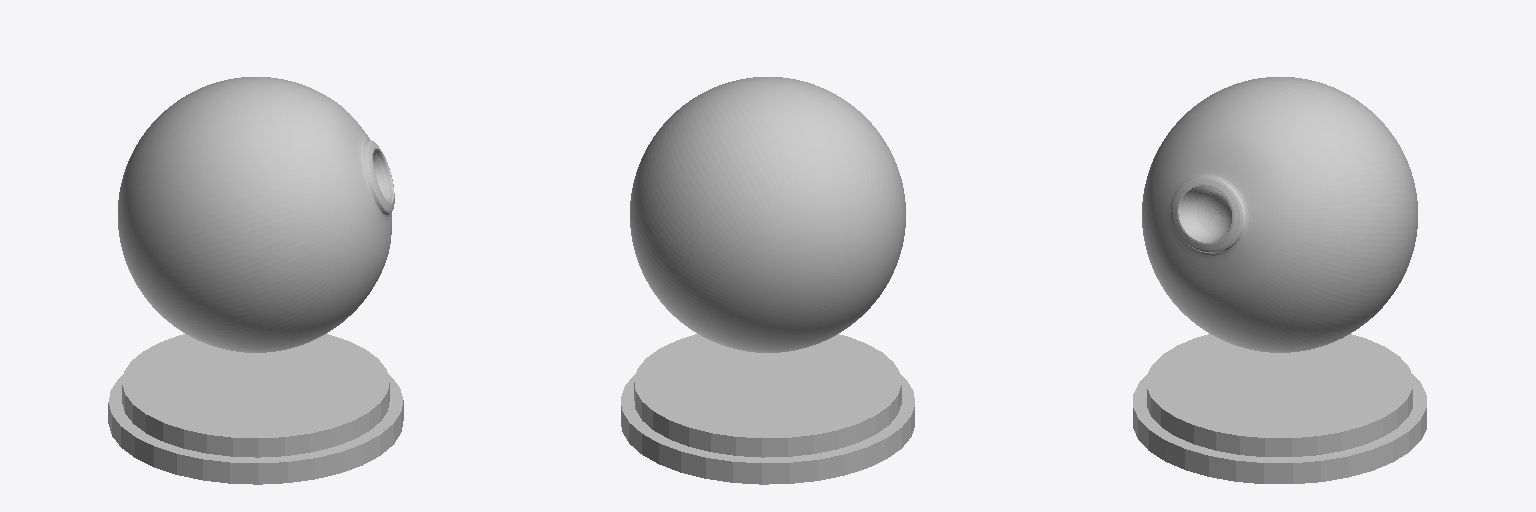
Rendered from matmodel-1.obj.
3 views of the same model, side by side, from view 1: azimuth 30°, elevation 25°; view 2: azimuth 150°, elevation 25°; view 3: azimuth 270°, elevation 25° (orthographic).
Size of the model in its own units: 7.97 by 9.95 by 7.97.